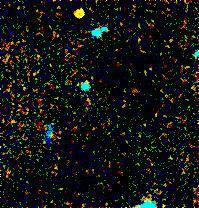star: (66, 0, 96, 27)
